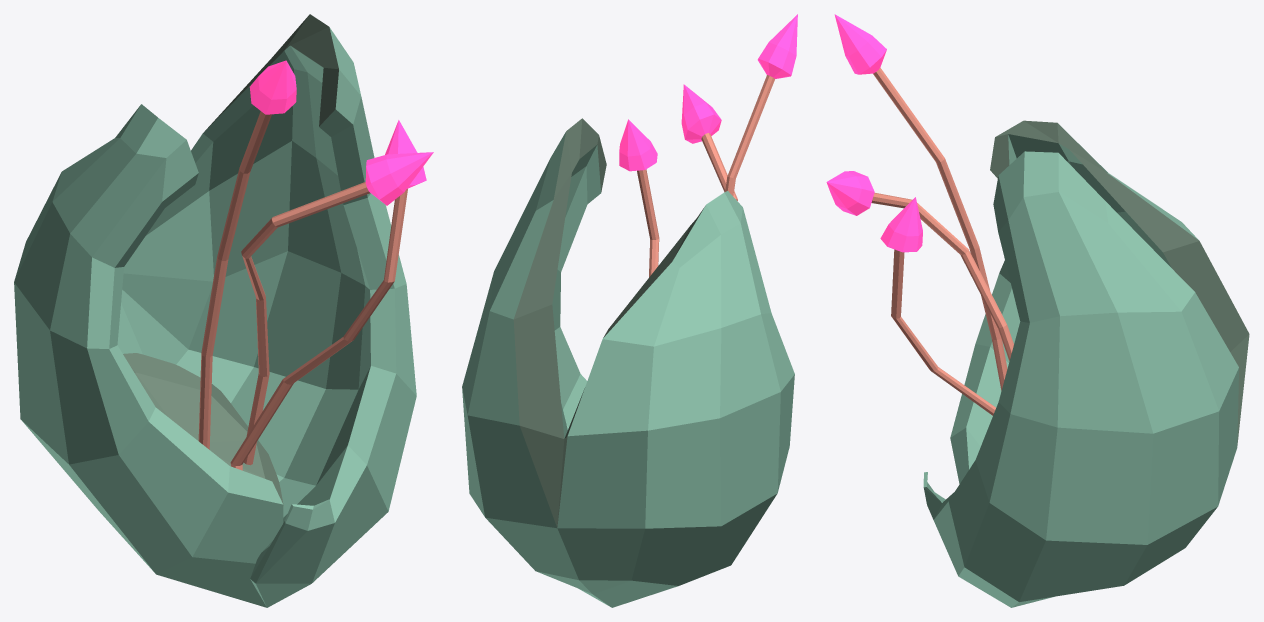
File: Plant_14_Var_05.fbx
The picture shows the model from 3 angles, left to right: view 1: azimuth 30°, elevation 25°; view 2: azimuth 150°, elevation 25°; view 3: azimuth 270°, elevation 25°; orthographic projection. The views are drawn at different scales.
Parts seen in each view (by area): view 1: Plant_14_Var_05; view 2: Plant_14_Var_05; view 3: Plant_14_Var_05.
Boxes of the visible parts, x1,y1,x2,y2 form: Plant_14_Var_05: (14, 14, 433, 607); Plant_14_Var_05: (462, 14, 797, 607); Plant_14_Var_05: (826, 14, 1249, 607).
Bounding box in the file's own units: 0.5005 × 0.7297 × 0.4155.
